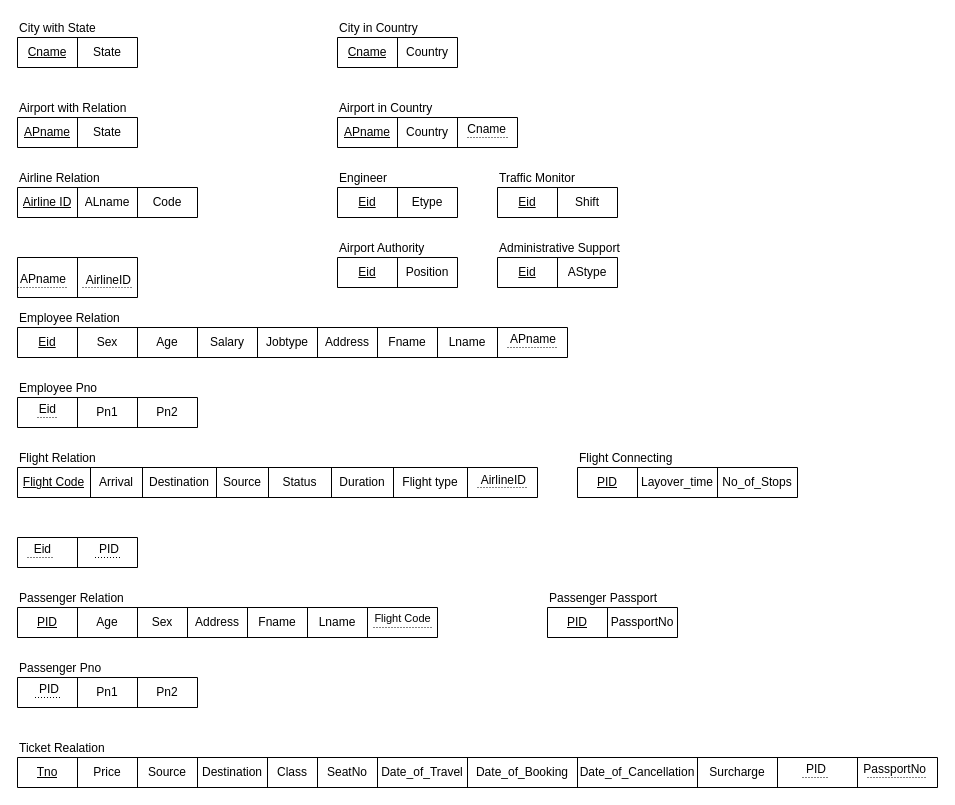
Some shapes in this 955 by 805 pixel diagram are drawn without their labels. Each missing label, with the centre of its shape:
"Airport Airline" goes at (x=77, y=267).
"Employer Passenger" goes at (x=77, y=542).
